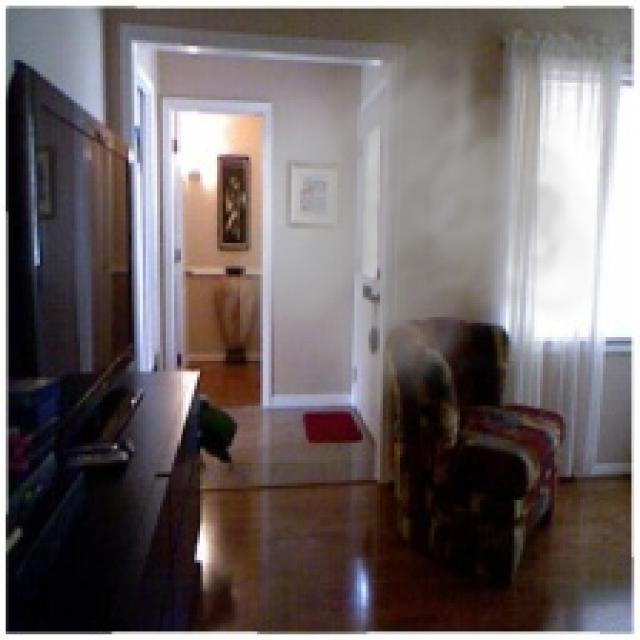Smoke: (240, 17, 609, 414)
